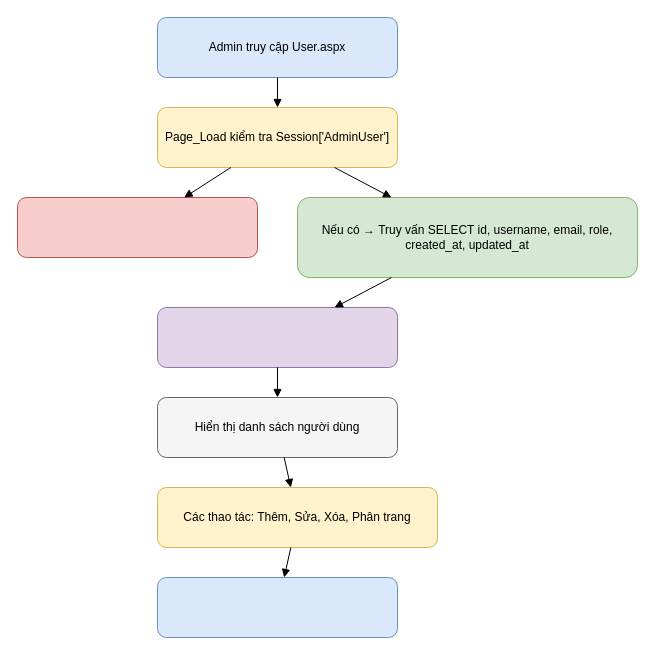
This 655x655 diagram has some shape labels left out. The centre of each missing label's shape, as x and y in pixels:
"Nếu null → Redirect Login.aspx" belongs at (x=137, y=227).
"Refresh trang sau khi thao tác" belongs at (x=277, y=607).
"Đổ dữ liệu vào GridView (gvUsers)" belongs at (x=277, y=337).
